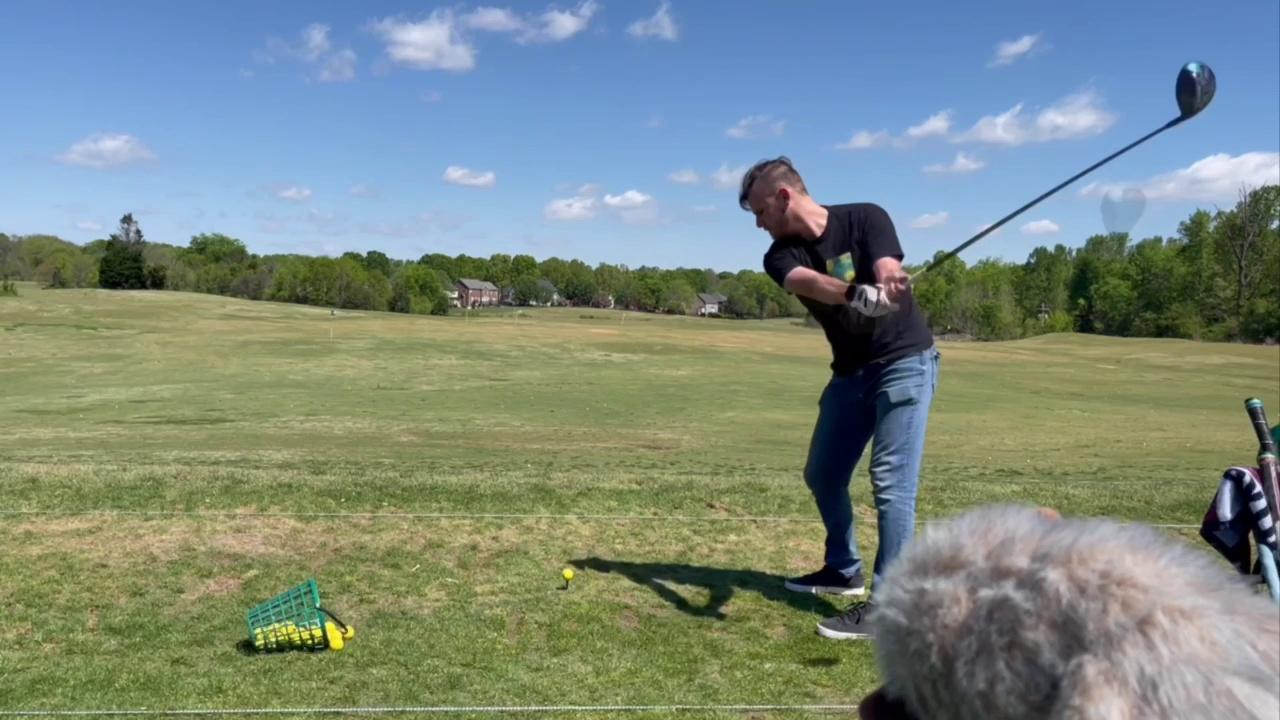ClubHead: (1161, 56, 1221, 131)
GolfBall: (559, 566, 577, 583)
